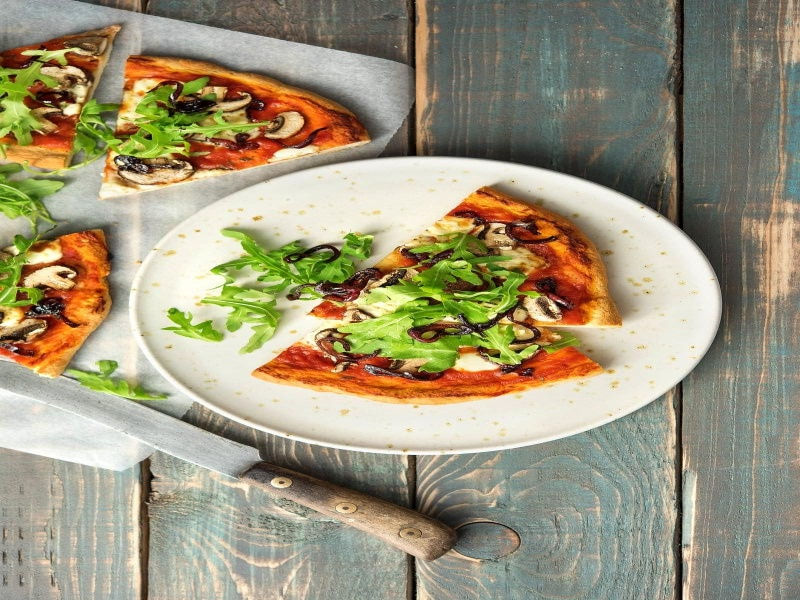champignon: (117, 156, 197, 188), (20, 264, 88, 299), (255, 110, 309, 143), (519, 289, 566, 324)
